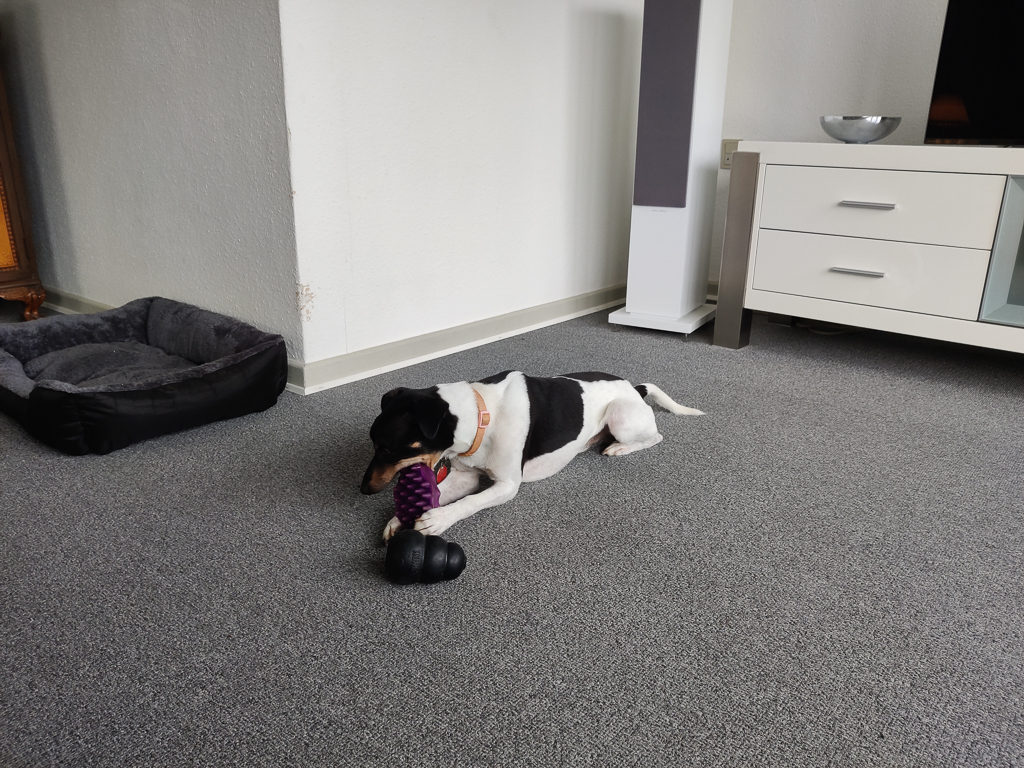Dog: (348, 351, 725, 562)
